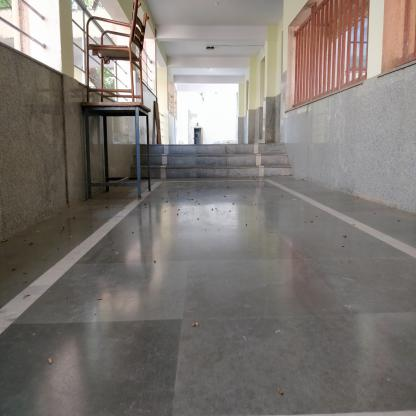stairs: (155, 144, 286, 182)
